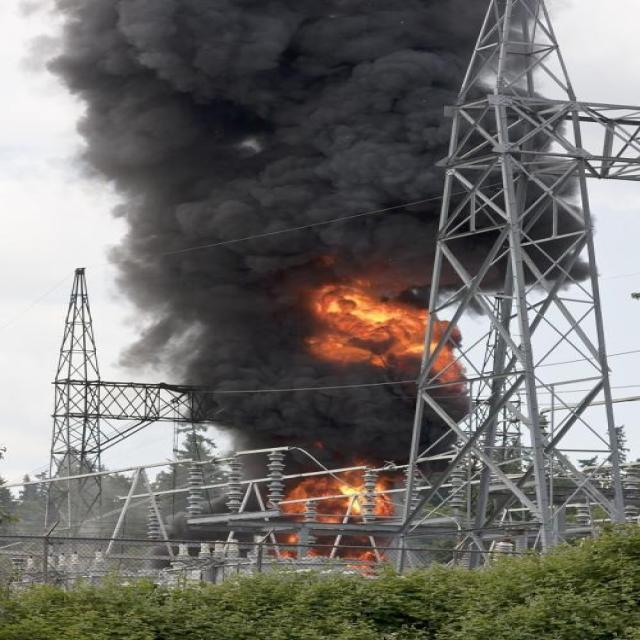Fire: (306, 276, 466, 384), (284, 466, 400, 578)
Smoke: (24, 1, 604, 570)
